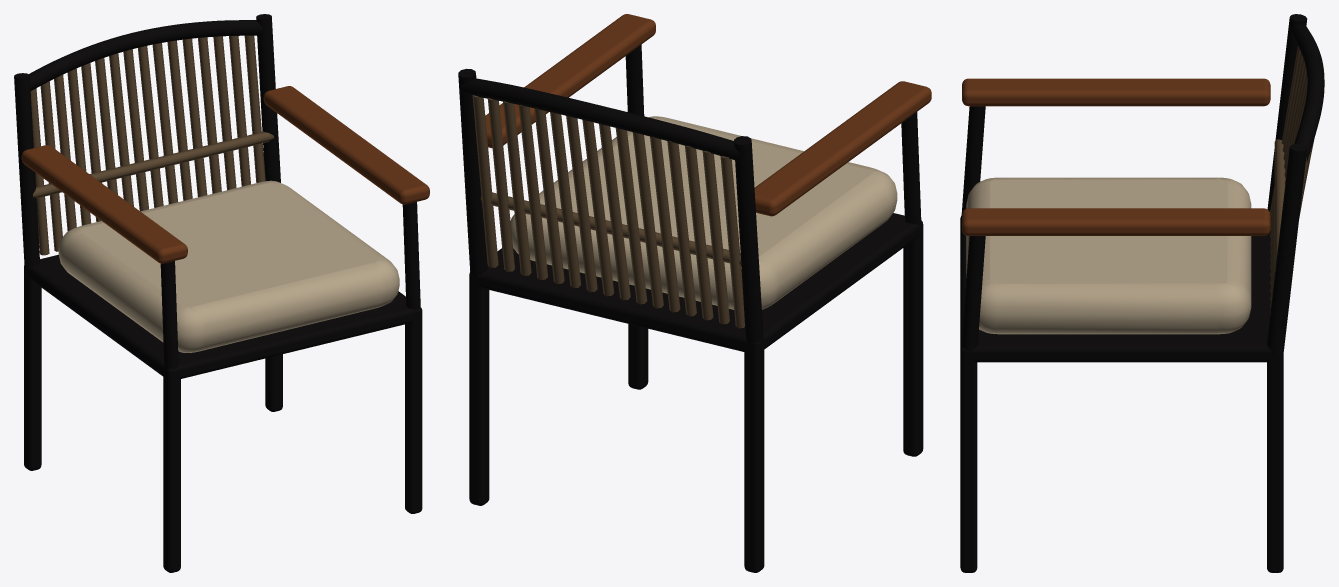
File: woven-dining-chair-lod0.glb
The picture shows the model from 3 angles, left to right: view 1: azimuth 30°, elevation 25°; view 2: azimuth 150°, elevation 25°; view 3: azimuth 270°, elevation 25°; orthographic projection. The views are drawn at different scales.
Parts seen in each view (by area): view 1: Oatmeal performance fabric, Powder-coated bronze aluminium, Woven taupe rope, Oiled teak; view 2: Powder-coated bronze aluminium, Woven taupe rope, Oatmeal performance fabric, Oiled teak; view 3: Oatmeal performance fabric, Powder-coated bronze aluminium, Oiled teak, Woven taupe rope.
Part boxes in pixels (x1,y1,x2,y2): Oatmeal performance fabric: [58, 180, 399, 352]; Powder-coated bronze aluminium: [14, 14, 422, 572]; Woven taupe rope: [30, 35, 273, 255]; Oiled teak: [21, 86, 429, 263]; Powder-coated bronze aluminium: [458, 44, 923, 572]; Woven taupe rope: [472, 95, 744, 328]; Oatmeal performance fabric: [510, 116, 897, 309]; Oiled teak: [485, 14, 931, 216]; Oatmeal performance fabric: [966, 177, 1251, 334]; Powder-coated bronze aluminium: [960, 14, 1324, 572]; Oiled teak: [962, 78, 1270, 235]; Woven taupe rope: [1270, 46, 1314, 315].
Bounding box in the file's own units: 0.5969 × 0.823 × 0.6292.
